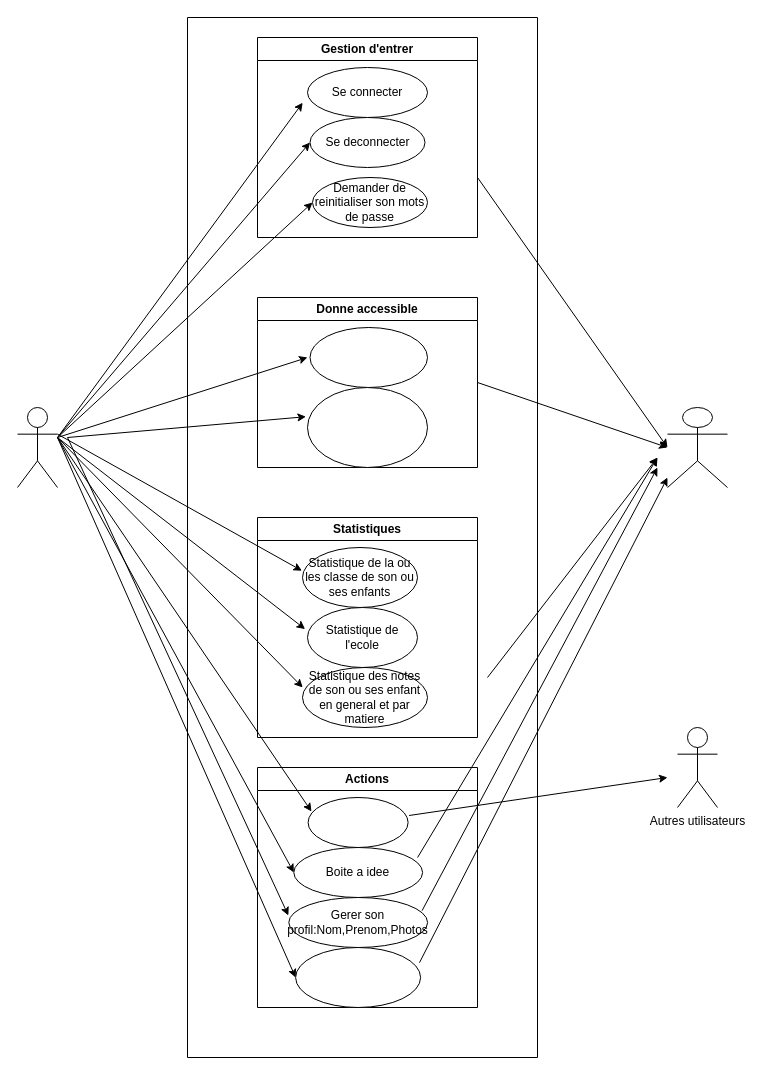
Image size: 762x1075. Some labels were removed from this diagram. Here are the shapes that lost their labels. From the top down, the centre of each, then its label:
(368,357): Peut voir le taux de participation de son ou ses enfant
(37,447): Parent
(367,427): Peut voir les meilleurs eleves de la classe de son enfant
(697,447): Django
(357,822): Communiquer avec les autres users
(358,977): Changer de theme,langues
